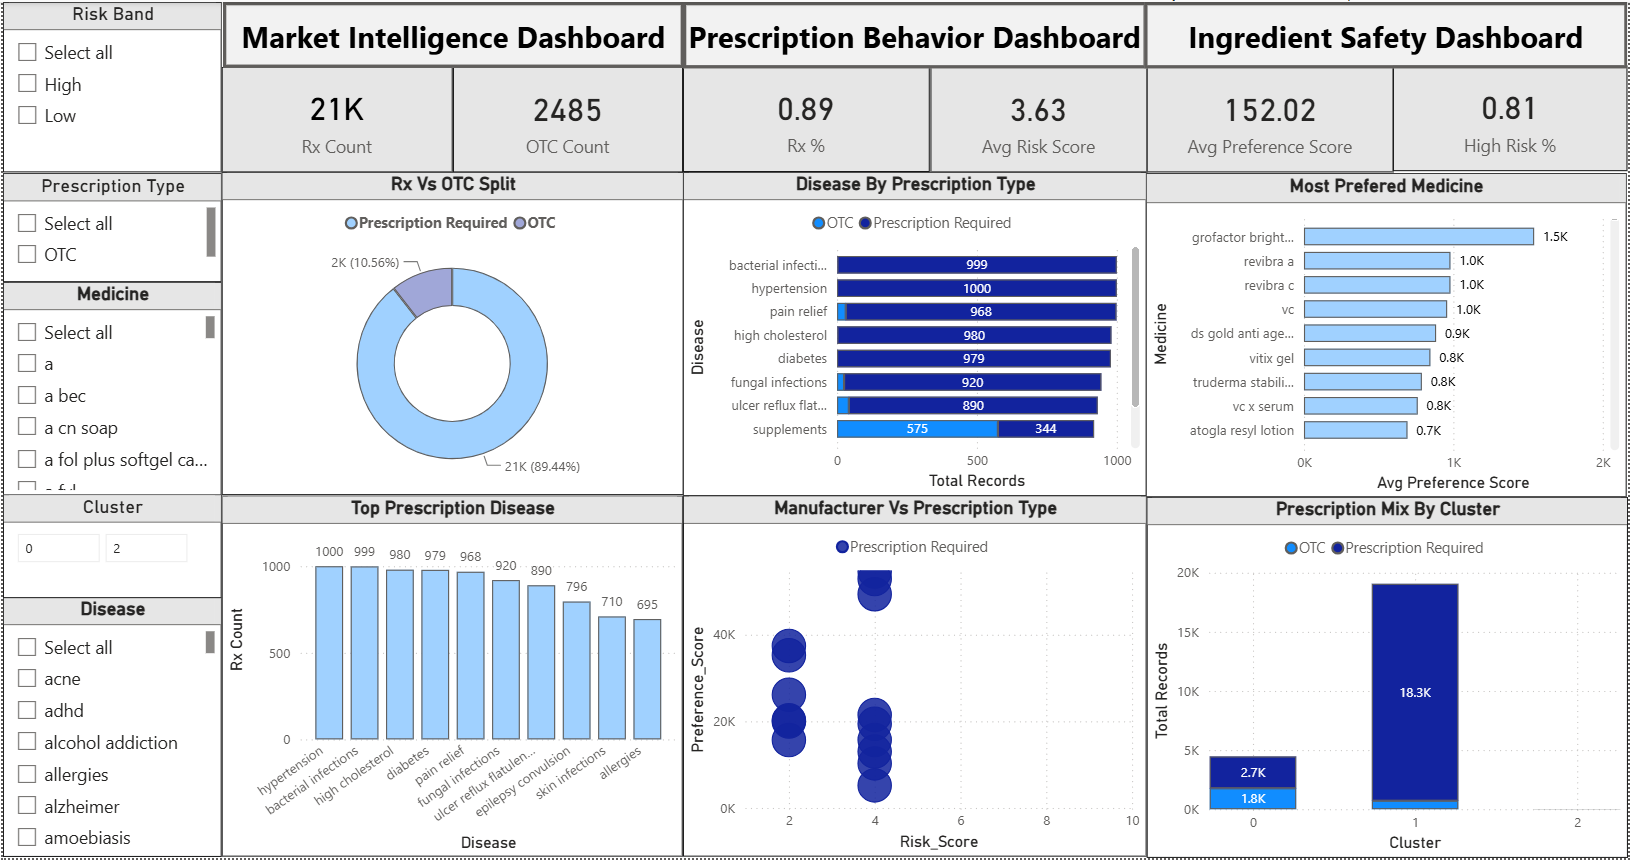

The page's visual inventory and layout, read from the dashboard file:
{"tool":"powerbi","page":{"name":"Prescription Behavior Dashboard","canvas":[1480,780],"ordinal":1},"visuals":[{"type":"clusteredBarChart","title":"Most Prefered Medicine","fields":{"Category":["clean_data.Medicine"],"Y":["clean_data.Avg Preference Score"]},"box":[1041,155.5,438,295.6],"z":0},{"type":"card","fields":{"Values":["clean_data.Rx Count"]},"box":[199.9,59.2,210.3,95.7],"z":1000},{"type":"card","fields":{"Values":["clean_data.OTC Count"]},"box":[409.8,59.2,209.9,96.1],"z":2000},{"type":"card","fields":{"Values":["clean_data.Rx %"]},"box":[620.1,58.7,224.5,96.8],"z":3000},{"type":"card","fields":{"Values":["clean_data.Avg Risk Score"]},"box":[844.8,59.2,197.6,96.1],"z":4000},{"type":"card","fields":{"Values":["clean_data.Avg Preference Score"]},"box":[1042.4,59.2,225,96.1],"z":5000},{"type":"card","fields":{"Values":["clean_data.High Risk %"]},"box":[1266.6,58.2,213.7,96.2],"z":6000},{"type":"barChart","title":"Disease By Prescription Type","fields":{"Y":["clean_data.Total Records"],"Series":["clean_data.Prescription Type"],"Category":["clean_data.Disease"]},"box":[619.8,155.3,422.6,295],"z":7000},{"type":"columnChart","title":"Prescription Mix By Cluster","fields":{"Category":["clean_data.Cluster"],"Series":["clean_data.Prescription Type"],"Y":["clean_data.Total Records"]},"box":[1042,451.2,438,328.8],"z":8000},{"type":"columnChart","title":"Top Prescription Disease","fields":{"Category":["clean_data.Disease"],"Y":["clean_data.Rx Count"]},"box":[199.4,449.9,420.2,328.8],"z":9000},{"type":"scatterChart","title":"Manufacturer Vs Prescription Type","fields":{"X":["clean_data.Risk_Score"],"Y":["clean_data.Preference_Score"],"Series":["clean_data.Prescription Type"],"Size":["Sum(clean_data.Ingredient_Count)"]},"box":[619.6,449.9,422.6,328.8],"z":10000},{"type":"slicer","title":"Disease","fields":{"Values":["clean_data.Disease"]},"box":[0.3,542.7,199,236.6],"z":11000},{"type":"slicer","title":"Medicine","fields":{"Values":["clean_data.Medicine"]},"box":[0.3,254.9,199,194.9],"z":12000},{"type":"slicer","title":"Risk Band","fields":{"Values":["clean_data.Risk Band"]},"box":[0,0,199.4,155.5],"z":13000},{"type":"slicer","title":"Prescription Type","fields":{"Values":["clean_data.Prescription Type"]},"box":[0.3,155.9,199.4,99.2],"z":14000},{"type":"slicer","title":"Cluster","fields":{"Values":["clean_data.Cluster"]},"box":[0.3,448.6,199,94.1],"z":15000},{"type":"donutChart","title":"Rx Vs OTC Split","fields":{"Category":["clean_data.Prescription Type"],"Y":["clean_data.Total Records"]},"box":[199.3,155.5,420.8,294.4],"z":16000},{"type":"actionButton","box":[200,0,420,60],"z":20000},{"type":"actionButton","box":[619.6,0,422.6,60.5],"z":21000},{"type":"actionButton","box":[1039.6,0,440.4,60.5],"z":22000}]}

Visuals, with their boxes in screenshot pixels (x1, y1, x2, y2), scaled from the page's 1480x780 canvas onto the 1630x860 screenshot:
"Most Prefered Medicine" clusteredBarChart: <bbox>1147, 171, 1629, 497</bbox>
card - clean_data.Rx Count: <bbox>220, 65, 452, 171</bbox>
card - clean_data.OTC Count: <bbox>451, 65, 683, 171</bbox>
card - clean_data.Rx %: <bbox>683, 65, 930, 171</bbox>
card - clean_data.Avg Risk Score: <bbox>930, 65, 1148, 171</bbox>
card - clean_data.Avg Preference Score: <bbox>1148, 65, 1396, 171</bbox>
card - clean_data.High Risk %: <bbox>1395, 64, 1629, 170</bbox>
"Disease By Prescription Type" barChart: <bbox>683, 171, 1148, 496</bbox>
"Prescription Mix By Cluster" columnChart: <bbox>1148, 497, 1629, 859</bbox>
"Top Prescription Disease" columnChart: <bbox>220, 496, 682, 859</bbox>
"Manufacturer Vs Prescription Type" scatterChart: <bbox>682, 496, 1148, 859</bbox>
"Disease" slicer: <bbox>0, 598, 219, 859</bbox>
"Medicine" slicer: <bbox>0, 281, 219, 496</bbox>
"Risk Band" slicer: <bbox>0, 0, 220, 171</bbox>
"Prescription Type" slicer: <bbox>0, 172, 220, 281</bbox>
"Cluster" slicer: <bbox>0, 495, 219, 598</bbox>
"Rx Vs OTC Split" donutChart: <bbox>219, 171, 683, 496</bbox>
actionButton: <bbox>220, 0, 683, 66</bbox>
actionButton: <bbox>682, 0, 1148, 67</bbox>
actionButton: <bbox>1145, 0, 1629, 67</bbox>
